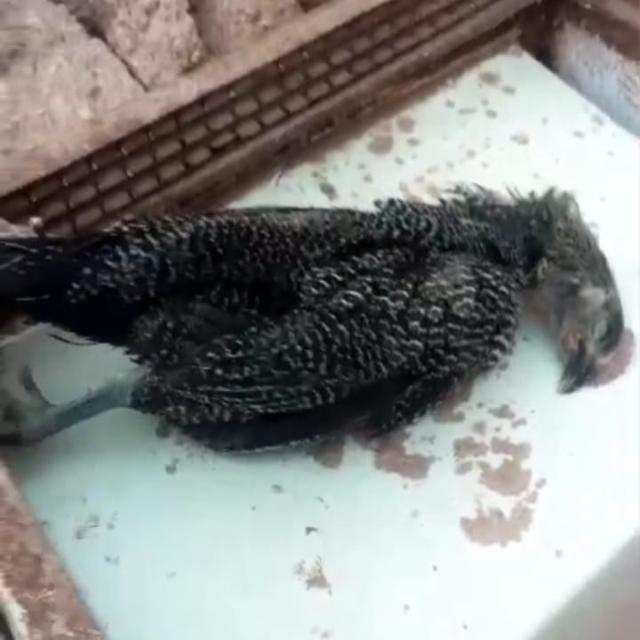Unhealthy: (5, 177, 635, 479)
